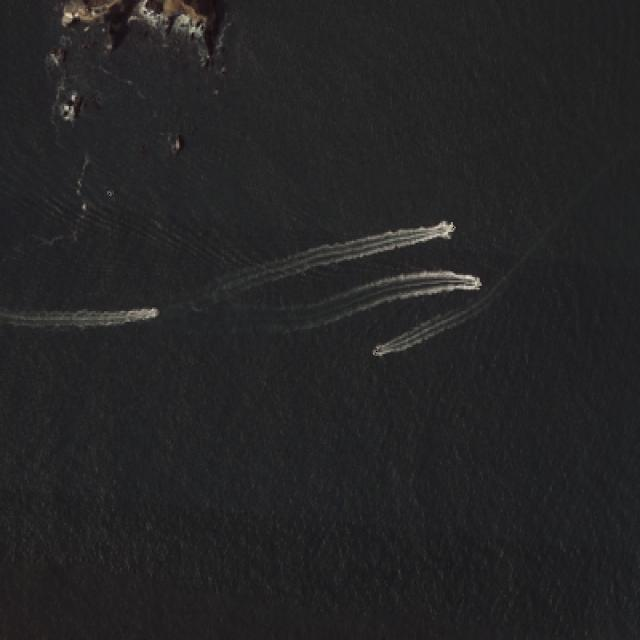boat: (473, 279, 481, 287), (106, 190, 112, 196), (372, 348, 377, 355), (449, 224, 455, 229), (154, 310, 158, 314)
